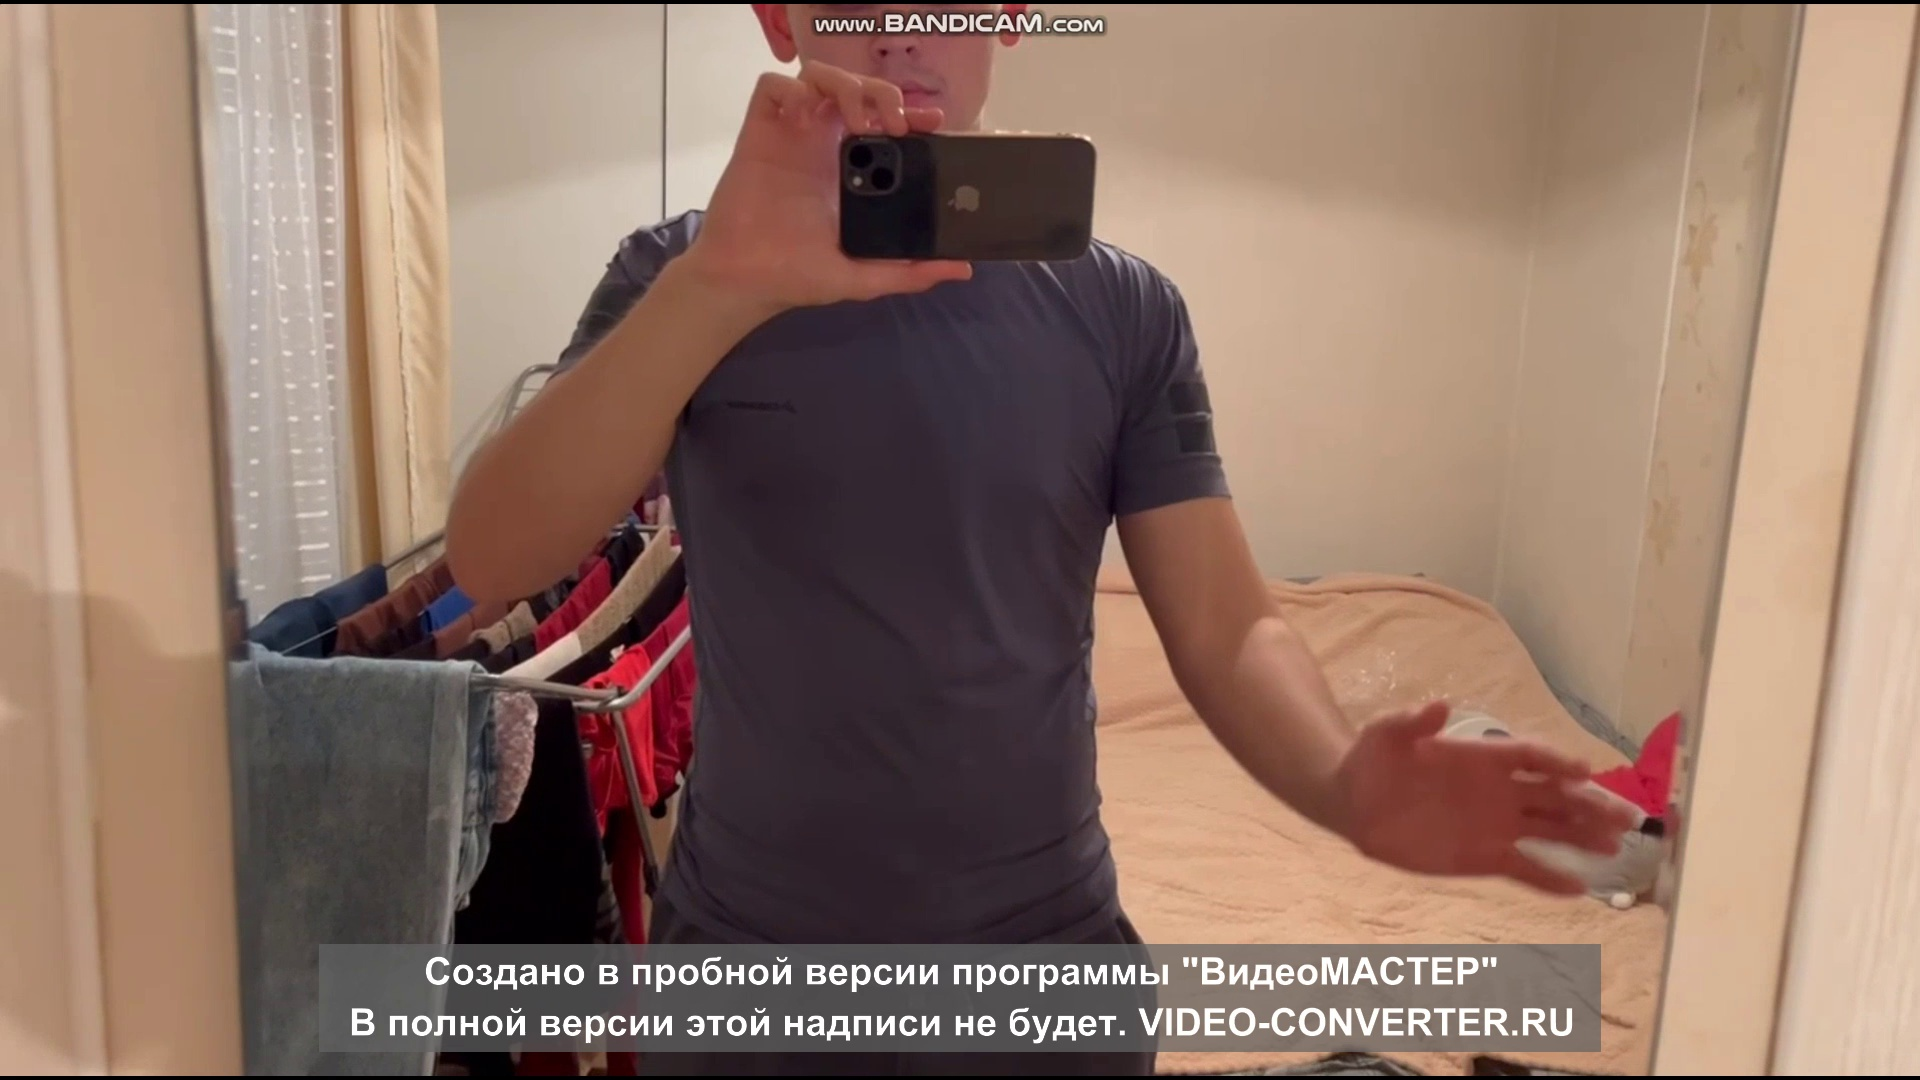Ладонь: (1338, 692, 1636, 902)
